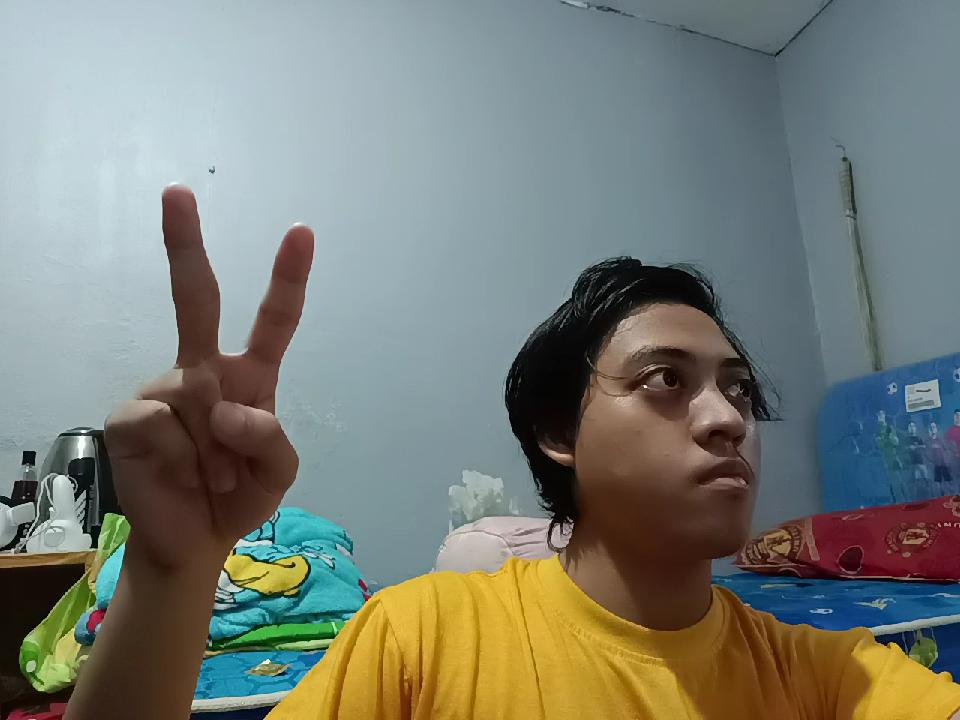scissors: (122, 166, 310, 585)
